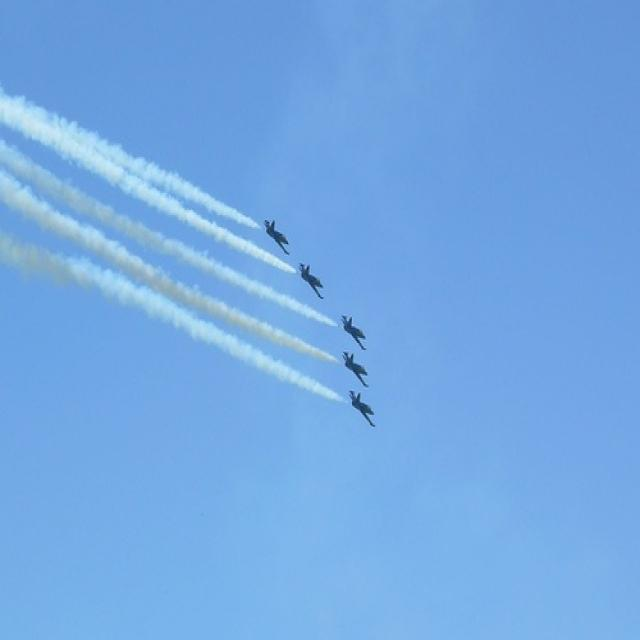aeroplane: (260, 218, 290, 256), (296, 261, 324, 300), (338, 350, 367, 387), (340, 314, 368, 352), (347, 389, 375, 423)
